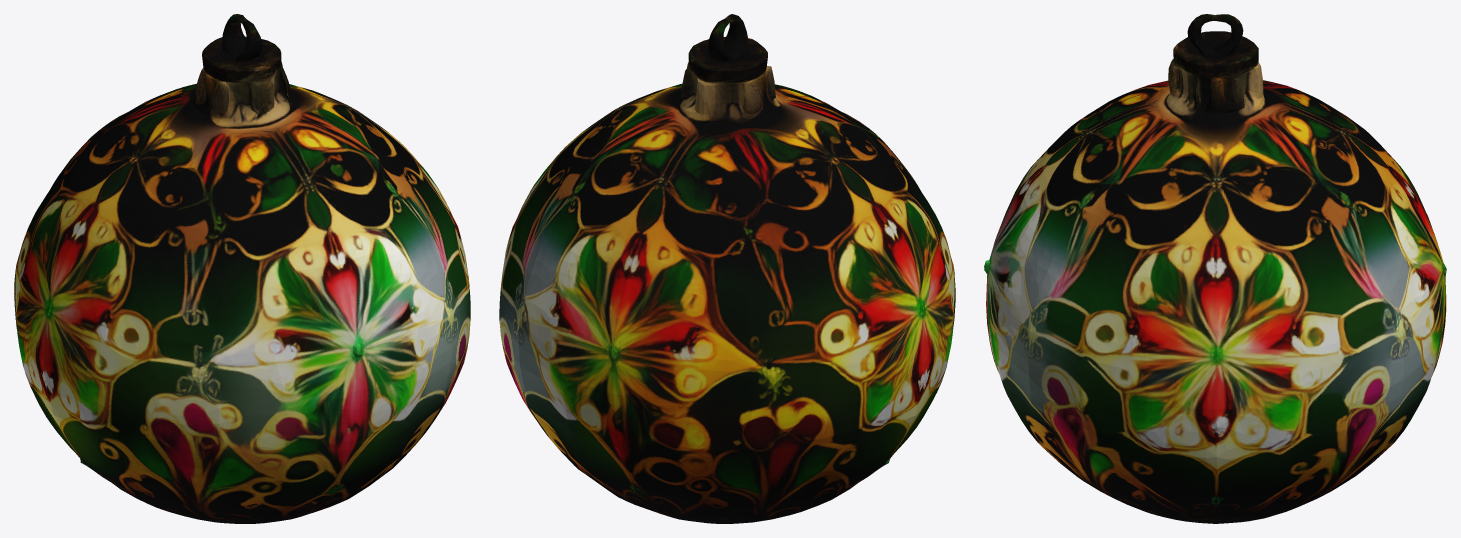
The model's file is porcelain-christmas-decor-art-deco.jpeg.glb.
The picture shows the model from 3 angles, left to right: view 1: azimuth 30°, elevation 25°; view 2: azimuth 150°, elevation 25°; view 3: azimuth 270°, elevation 25°; orthographic projection.
Visible parts, largest first — view 1: world; view 2: world; view 3: world.
Boxes of the visible parts, x1,y1,x2,y2 form: world: (14, 14, 470, 523); world: (499, 14, 955, 523); world: (984, 14, 1446, 523).
Size of the model in its own units: 0.8576 by 1 by 0.8589.
Materials: 1 (1 with a texture image).
